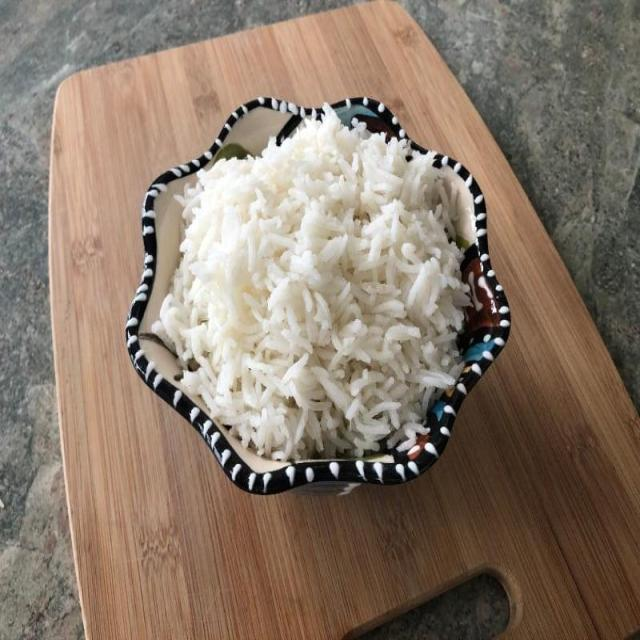rice: (172, 120, 470, 455)
